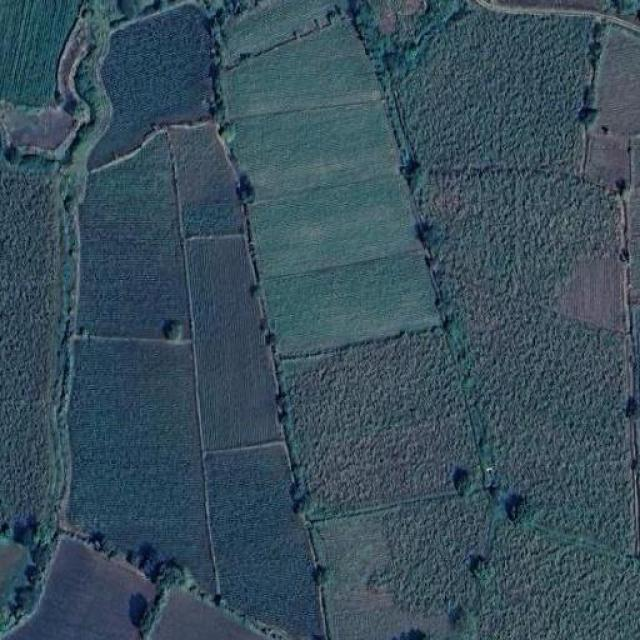land-Sx1C: (436, 278, 635, 555), (281, 334, 479, 519), (392, 5, 602, 178), (70, 339, 212, 588), (427, 172, 629, 328), (312, 496, 486, 640), (0, 164, 69, 522), (78, 136, 189, 338), (205, 446, 320, 636), (89, 6, 214, 168), (186, 235, 279, 449), (482, 525, 639, 640), (265, 254, 438, 355), (250, 180, 416, 276), (2, 539, 154, 639), (234, 104, 395, 198), (222, 25, 379, 119), (221, 0, 356, 68), (0, 0, 81, 106), (170, 125, 242, 235), (586, 25, 640, 136), (149, 589, 266, 639), (0, 101, 75, 154), (586, 137, 628, 191)
